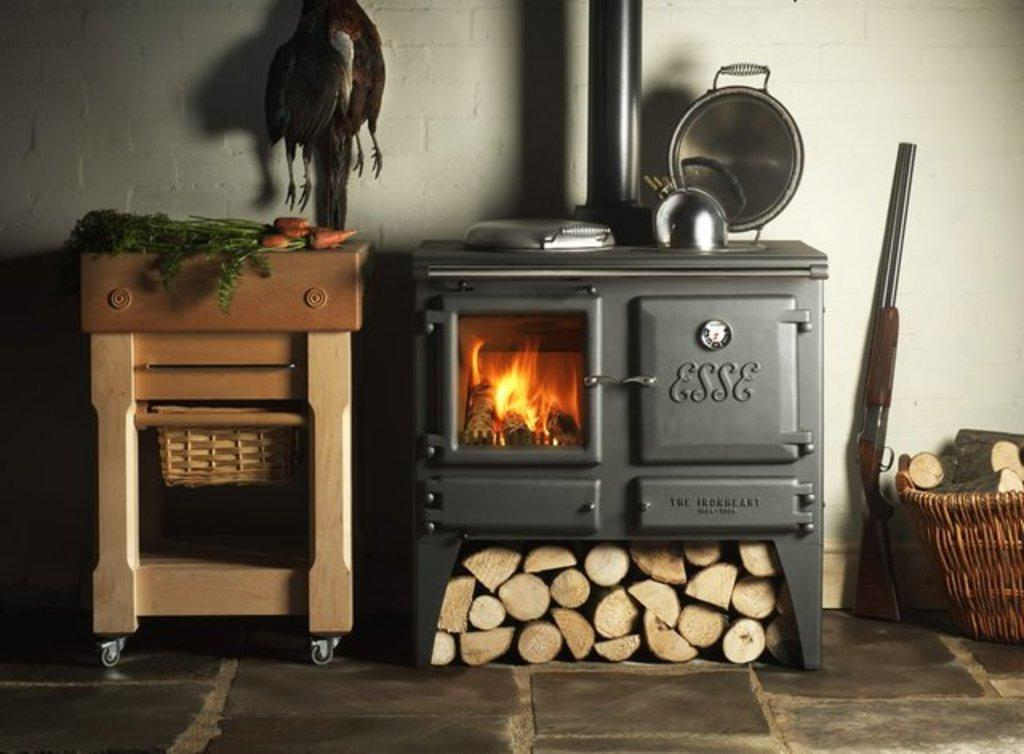Fire: (464, 336, 571, 444)
